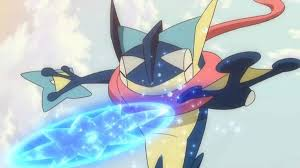greninja: (22, 1, 299, 168)
